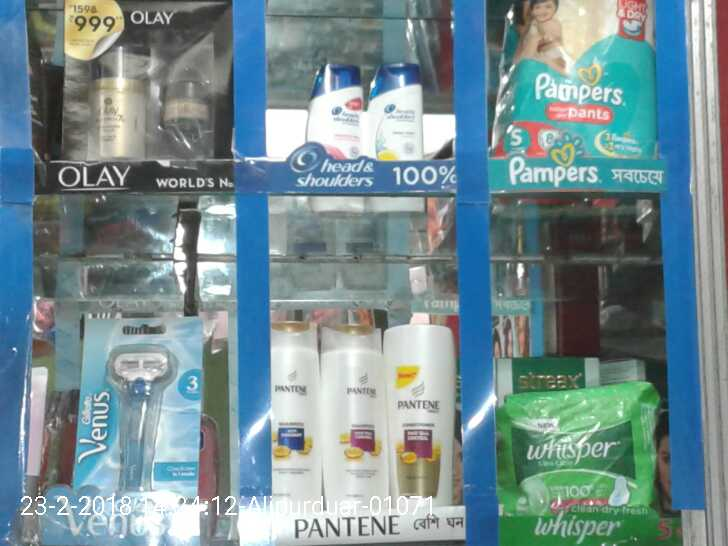venus: (74, 316, 203, 539)
